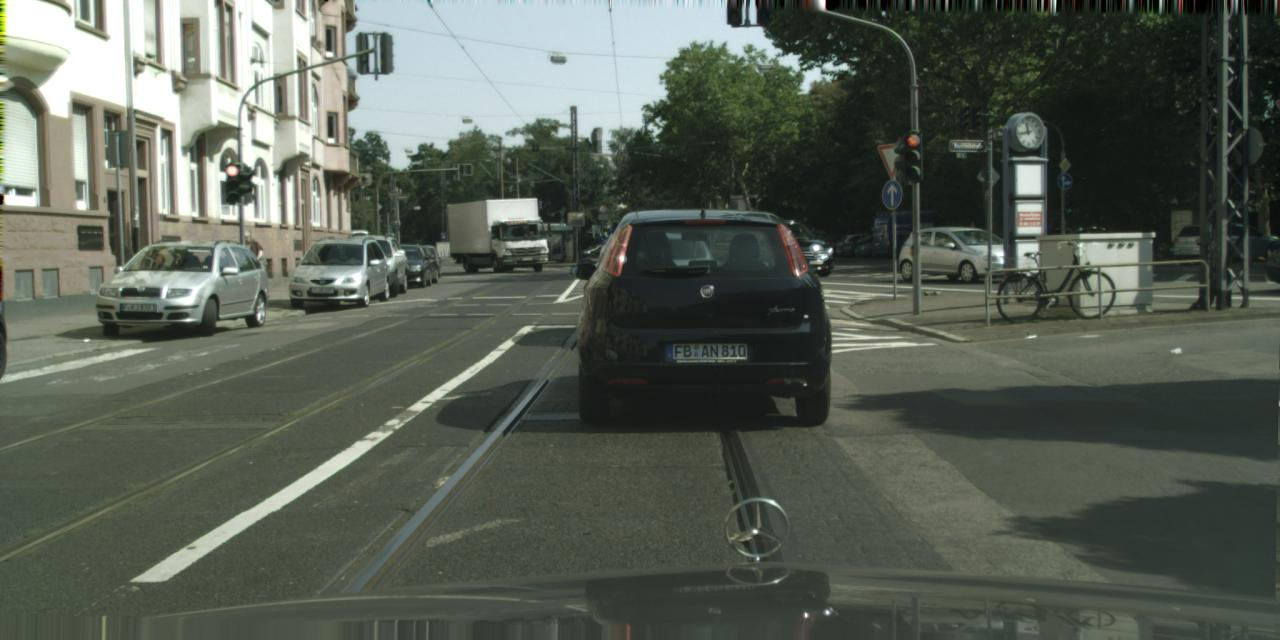ped: (238, 232, 262, 292)
